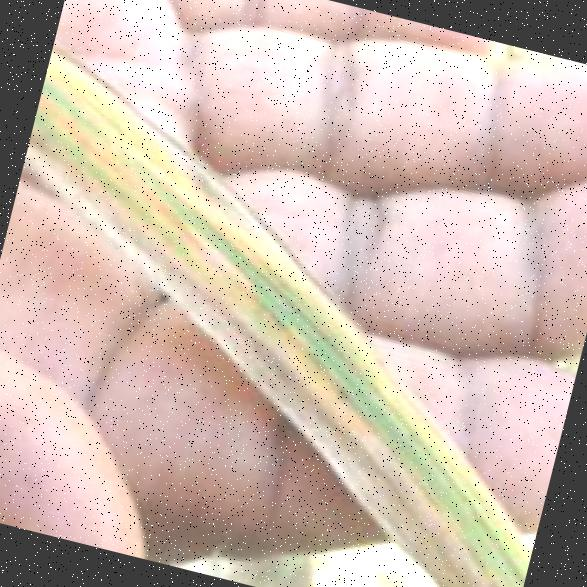Bacteria_Leaf_Blight: (0, 33, 572, 557)
